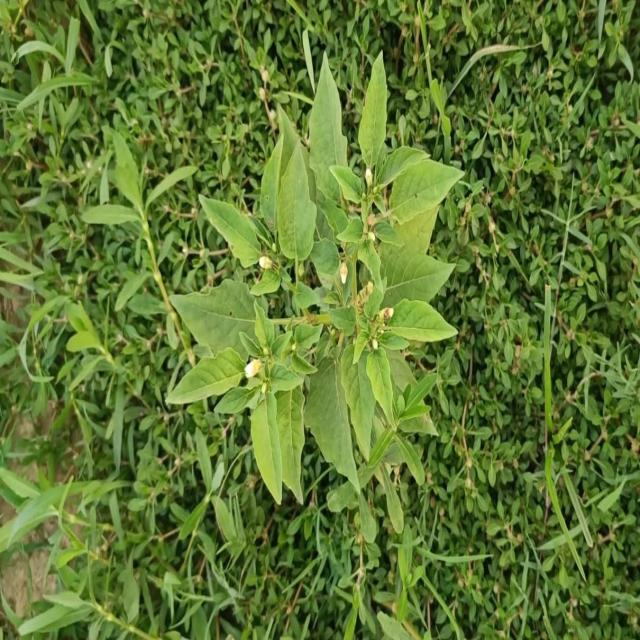weed: (166, 50, 465, 542)
